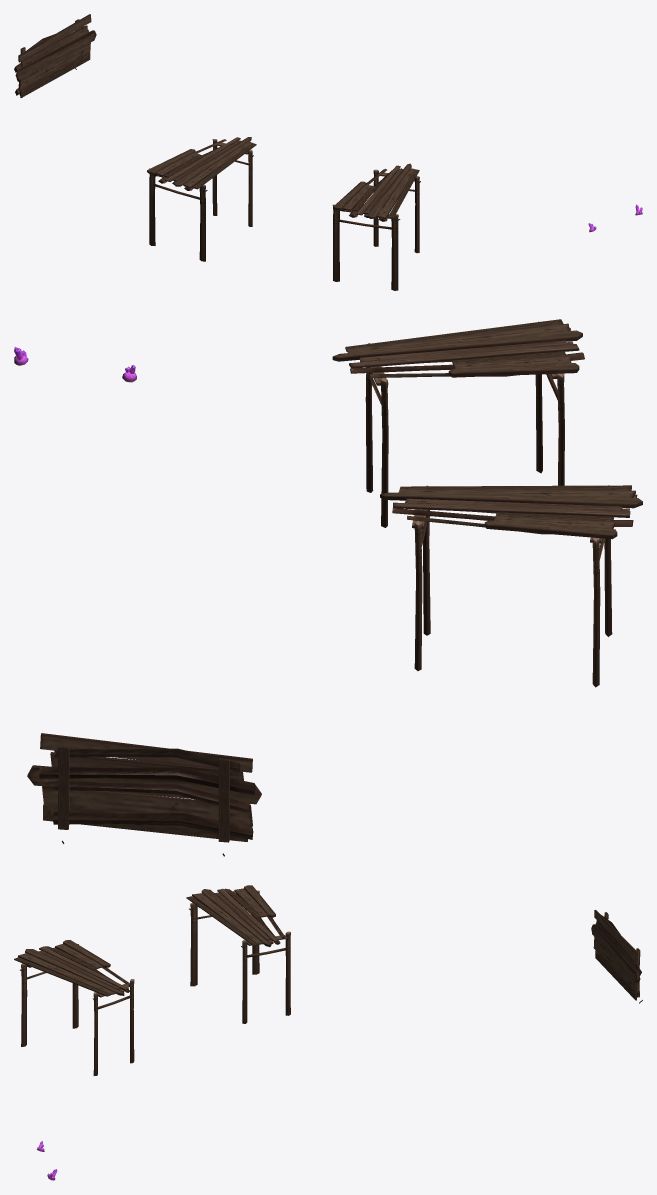
The model's file is area_10_shuijing.FBX.
The picture shows the model from 3 angles, top to bottom: view 1: azimuth 30°, elevation 25°; view 2: azimuth 150°, elevation 25°; view 3: azimuth 270°, elevation 25°; orthographic projection. The views are drawn at different scales.
Visible parts, largest first — view 1: area_10_shuijing; view 2: area_10_shuijing; view 3: area_10_shuijing.
Part boxes in pixels (x1,y1,x2,y2): area_10_shuijing: [14, 14, 642, 290]; area_10_shuijing: [14, 319, 642, 856]; area_10_shuijing: [14, 885, 642, 1180].
Bounding box in the file's own units: 3573 × 659 × 4437.
